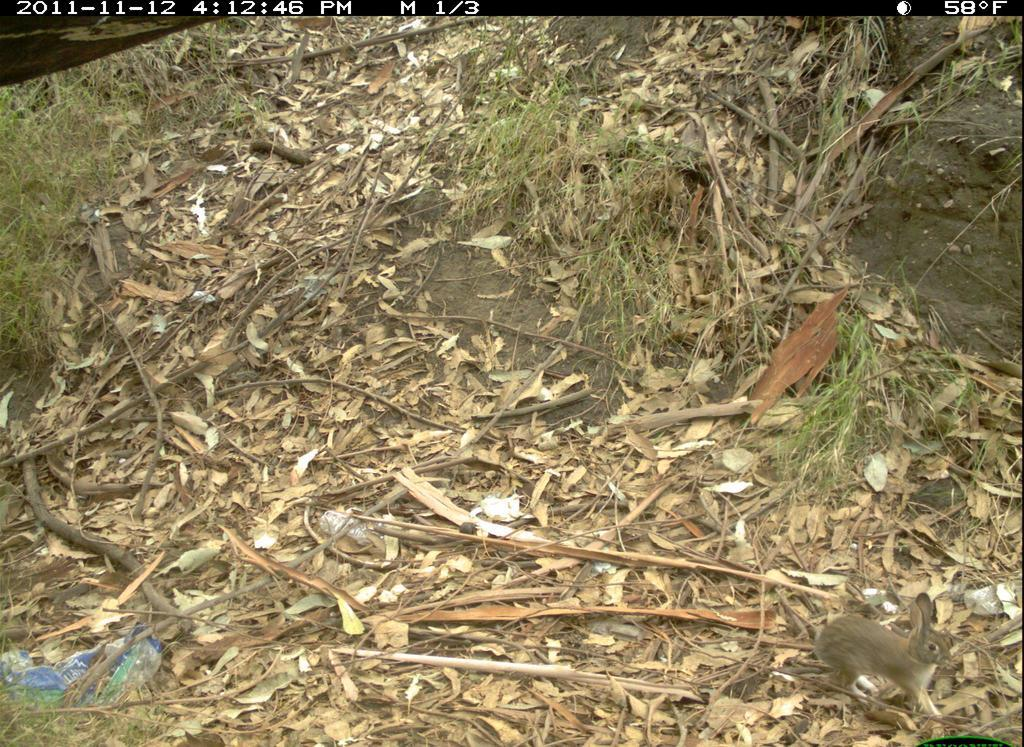rabbit: (812, 587, 966, 731)
